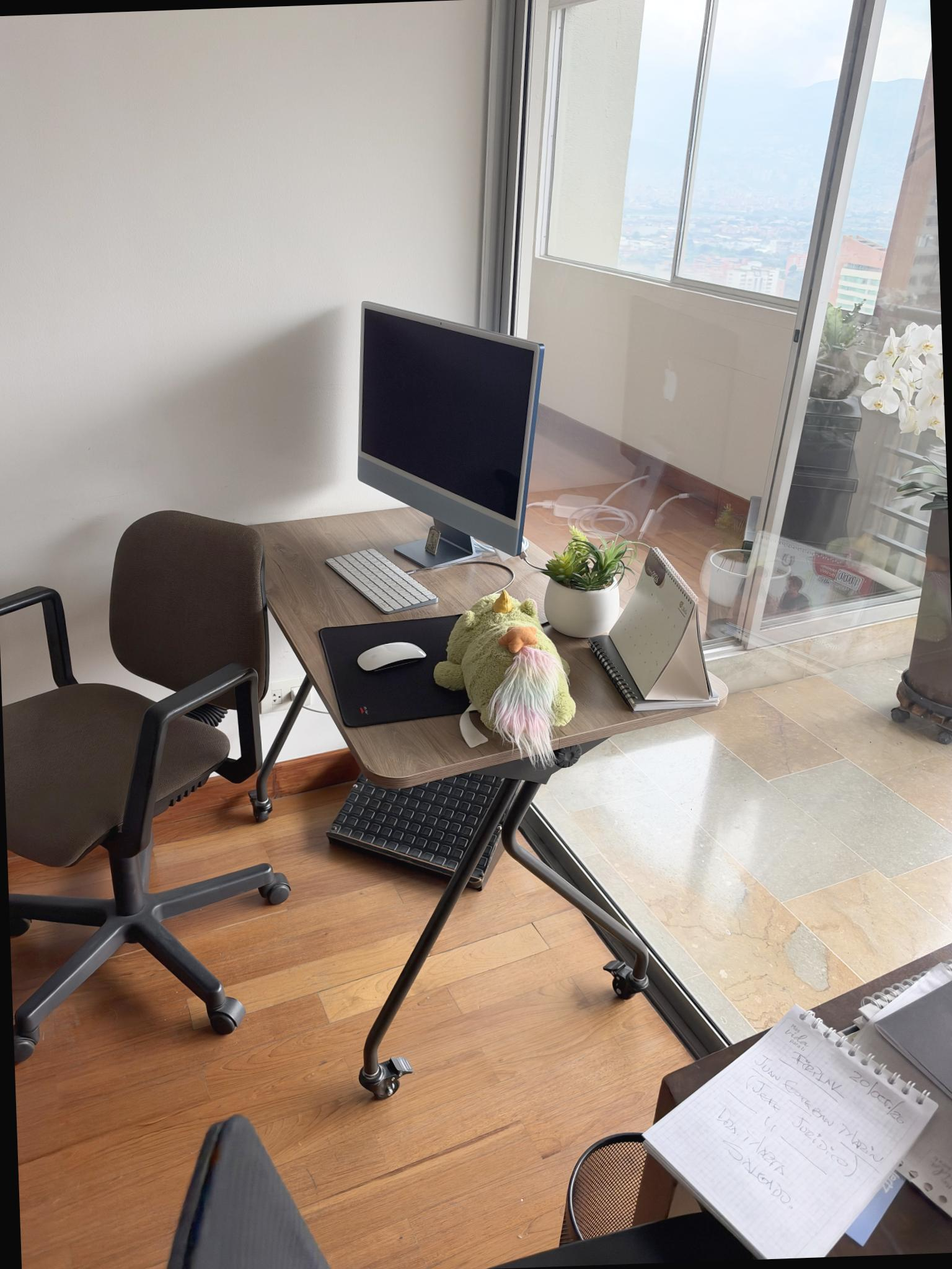peluche_martin: (430, 586, 579, 773)
